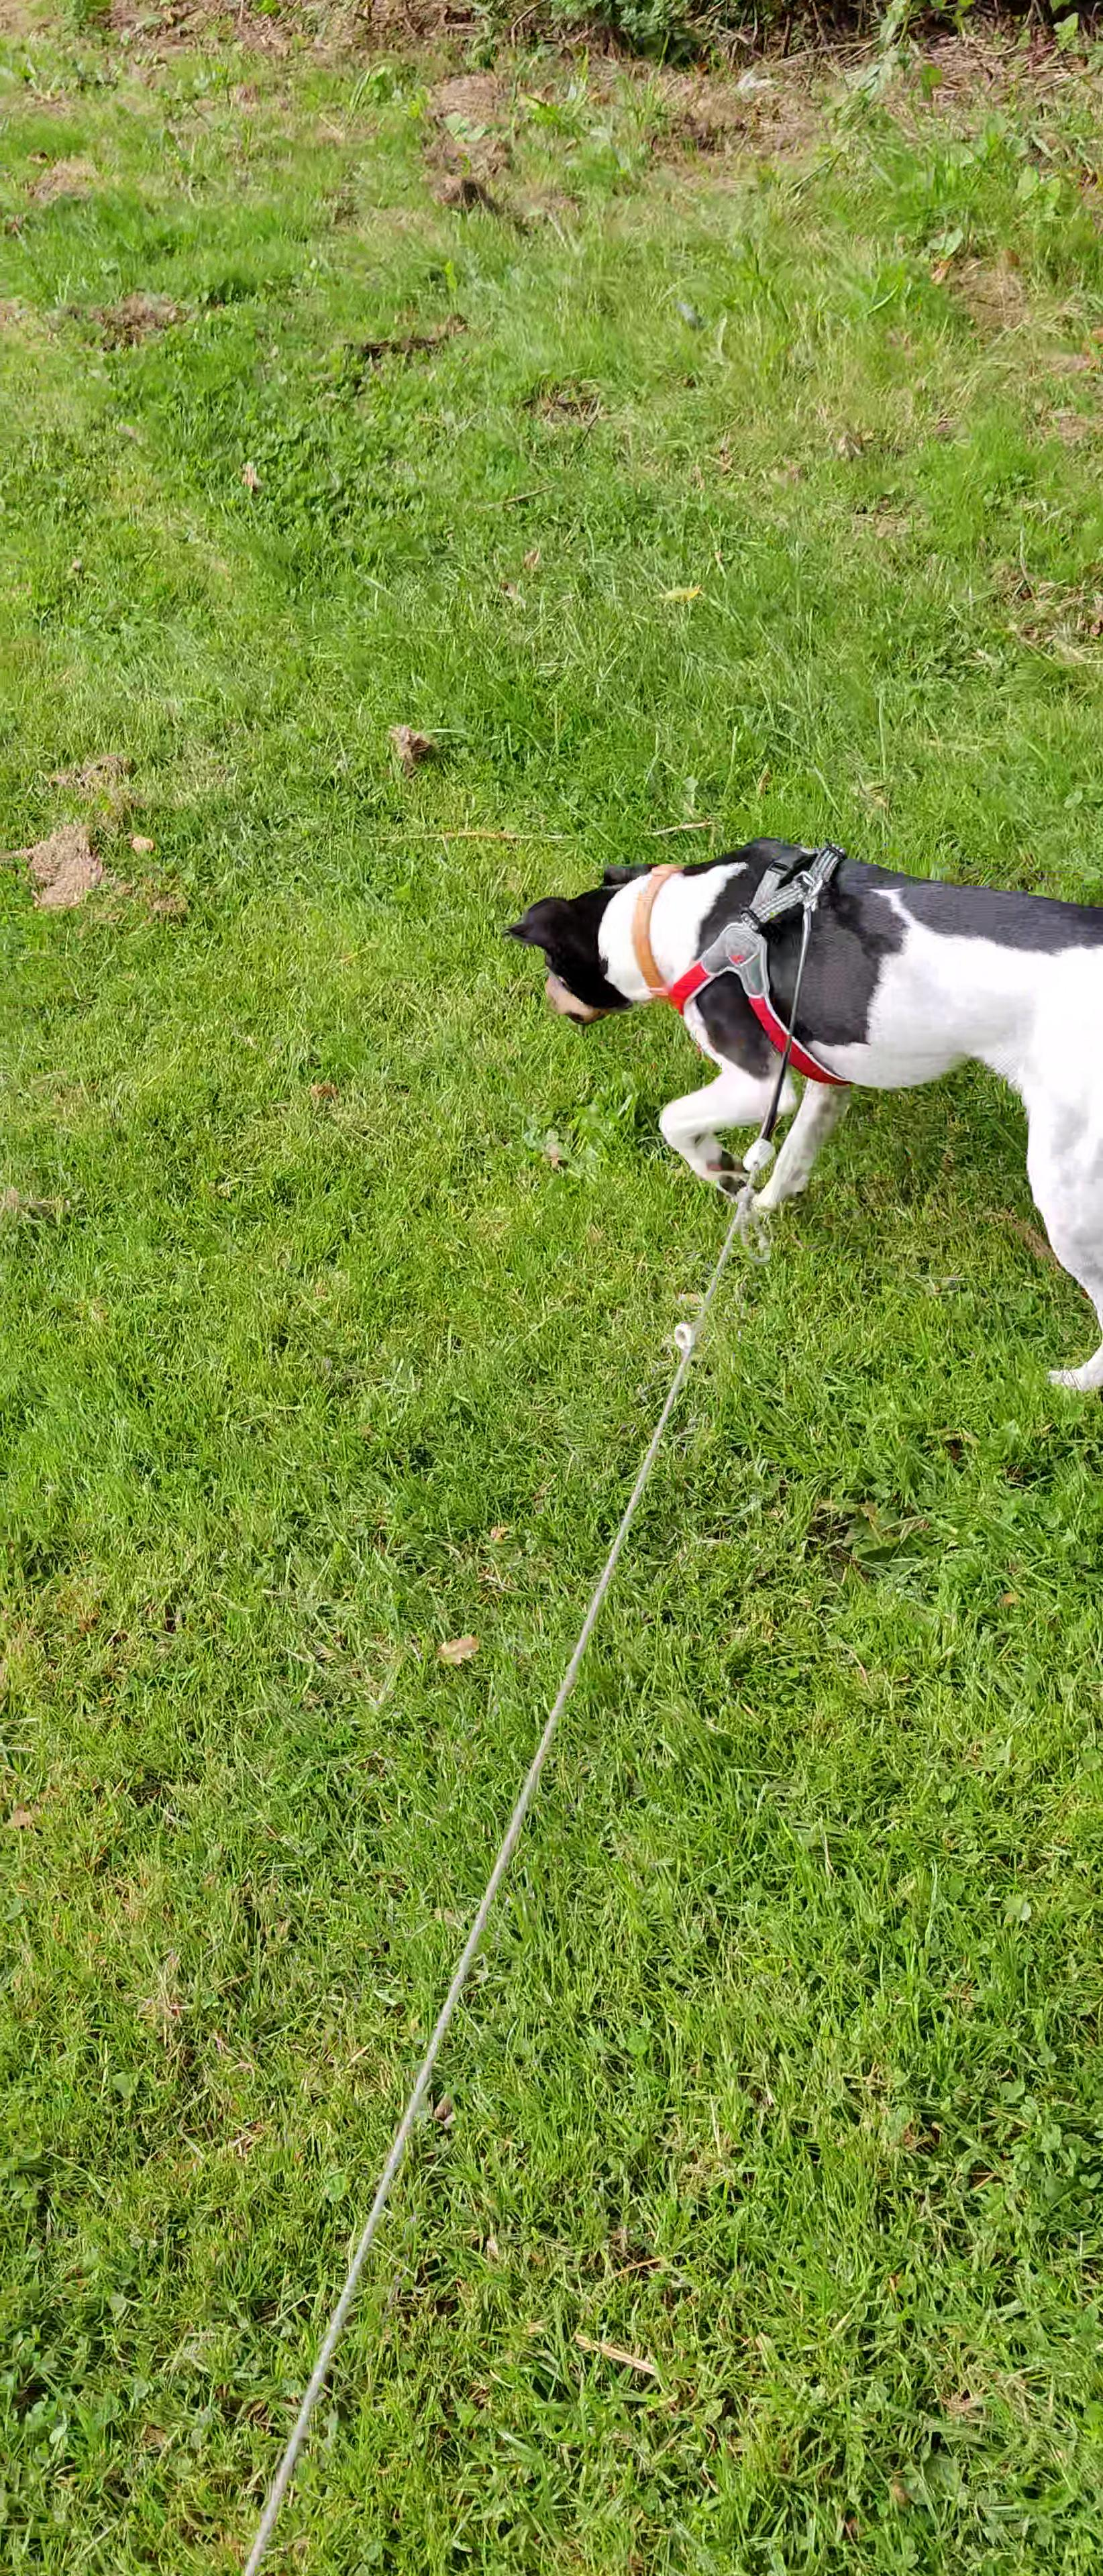Dog: (487, 823, 1103, 1401)
